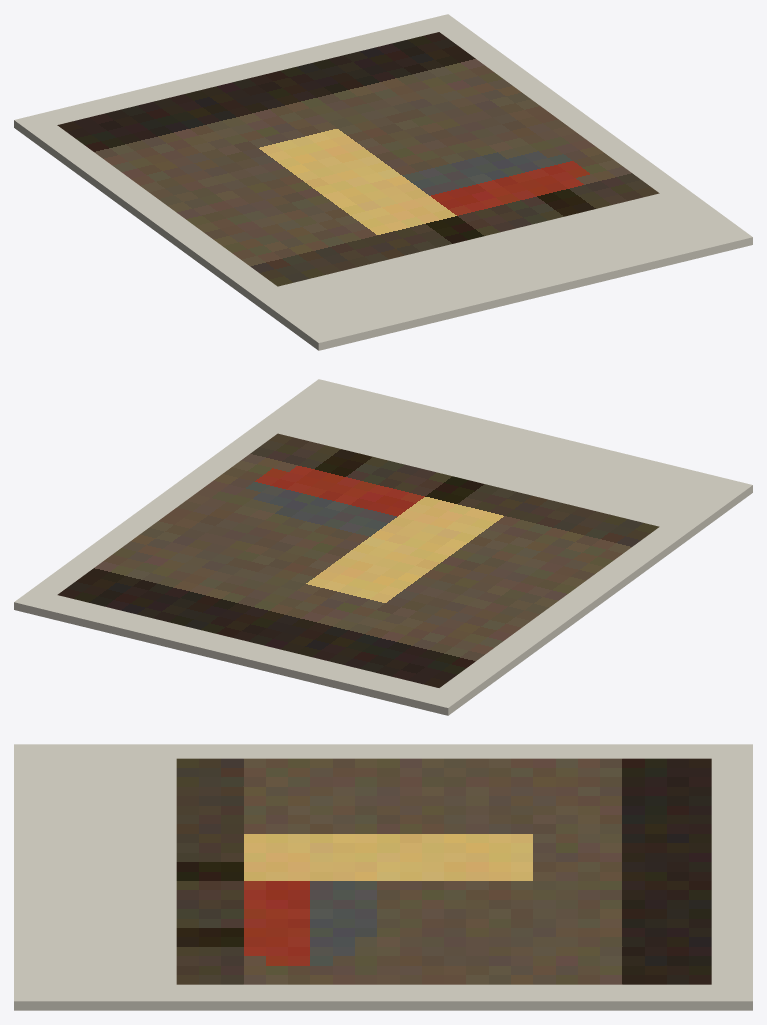
The model's file is polaroid.glb.
3 renders of one model, top to bottom at view 1: azimuth 30°, elevation 25°; view 2: azimuth 150°, elevation 25°; view 3: azimuth 270°, elevation 25°, orthographic. The views are drawn at different scales.
Visible parts, largest first — view 1: polaroid; view 2: polaroid; view 3: polaroid.
Part boxes in pixels (box(x1,y1,x2,y2)): polaroid: box(14, 14, 752, 350); polaroid: box(14, 379, 752, 715); polaroid: box(14, 744, 752, 1010).
Size of the model in its own units: 0.088 by 0.0017 by 0.107.
Materials: 2 (1 with a texture image).
